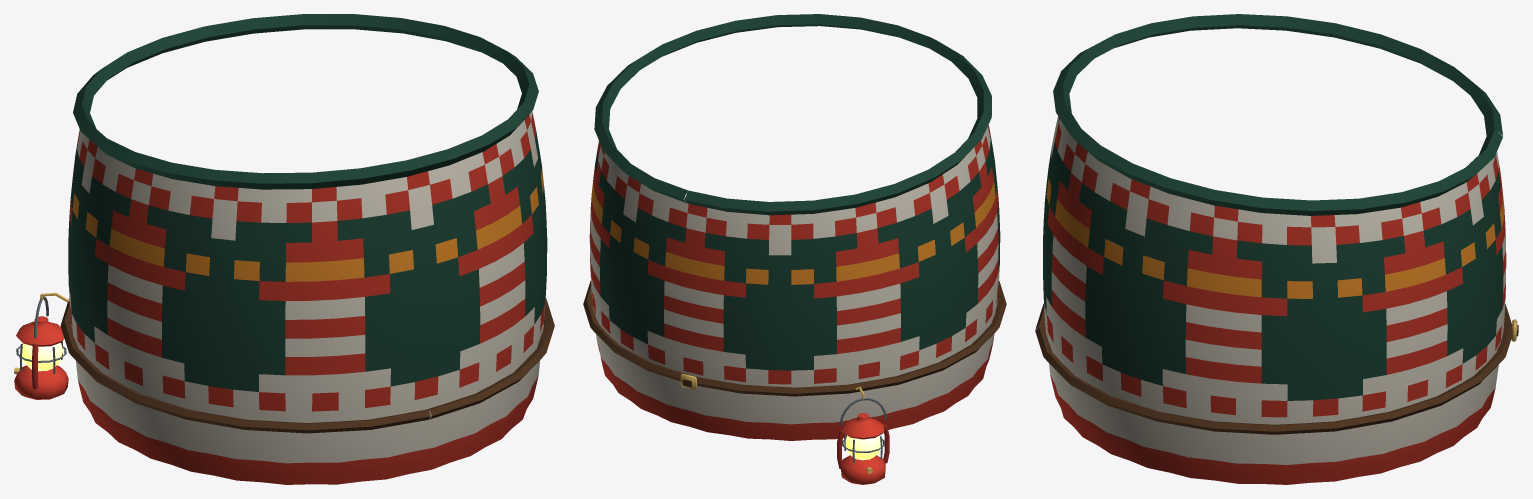
Rendered from keeper-sweater.glb.
3 views of the same model, side by side, from view 1: azimuth 30°, elevation 25°; view 2: azimuth 150°, elevation 25°; view 3: azimuth 270°, elevation 25° (orthographic). The views are drawn at different scales.
Visible parts, largest first — view 1: keeper_sweater_mesh, lantern_glow; view 2: keeper_sweater_mesh, lantern_glow; view 3: keeper_sweater_mesh.
Boxes of the visible parts, x1=… form: keeper_sweater_mesh: x1=14, y1=14, x2=554, y2=484; lantern_glow: x1=20, y1=342, x2=62, y2=371; keeper_sweater_mesh: x1=583, y1=14, x2=1006, y2=484; lantern_glow: x1=845, y1=435, x2=880, y2=460; keeper_sweater_mesh: x1=1035, y1=14, x2=1518, y2=484.
Size of the model in its own units: 1.16 by 0.877 by 1.17.
